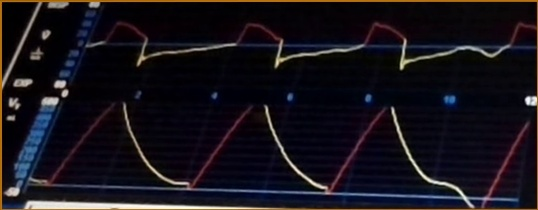Ineffective_effort Flow: (88, 17, 535, 78)
Ineffective_effort Volume: (27, 102, 520, 207)
